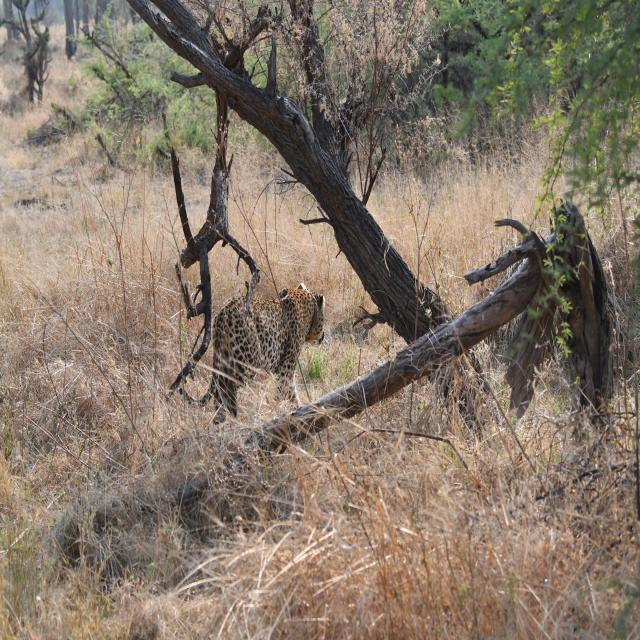Leopard: (180, 280, 327, 415)
